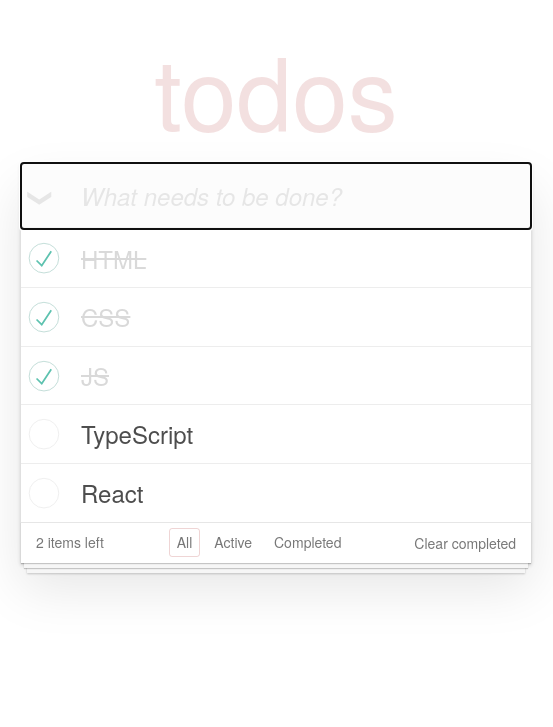
Test: Adding a todo › on success response › should allow to add one more todo
Expected: the heading "todos" is shown, [154, 16, 398, 159]
Step 1. Type "Test Todo" into the field with test id "NewTodoField" → (276, 196), box [21, 163, 531, 229]
Then press Enter
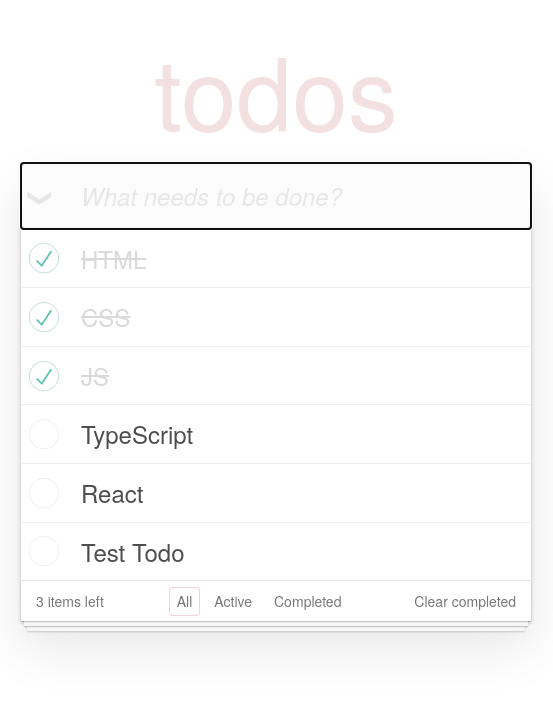
Step 2. Type "Hello world" into the field with test id "NewTodoField" → (276, 196), box [21, 163, 531, 229]
Then press Enter
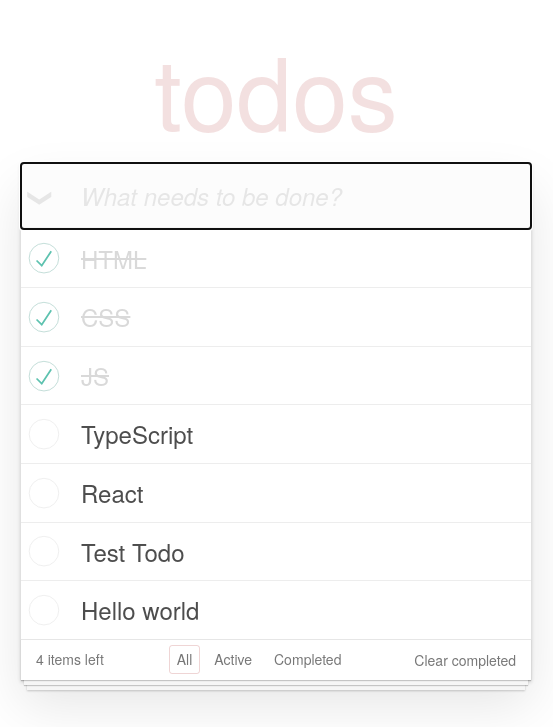
Result: the text with test id "TodoTitle" reads "Hello world" at [81, 592, 200, 627]
Result: the text with test id "TodosCounter" reads "4 items left" at [36, 649, 104, 670]
